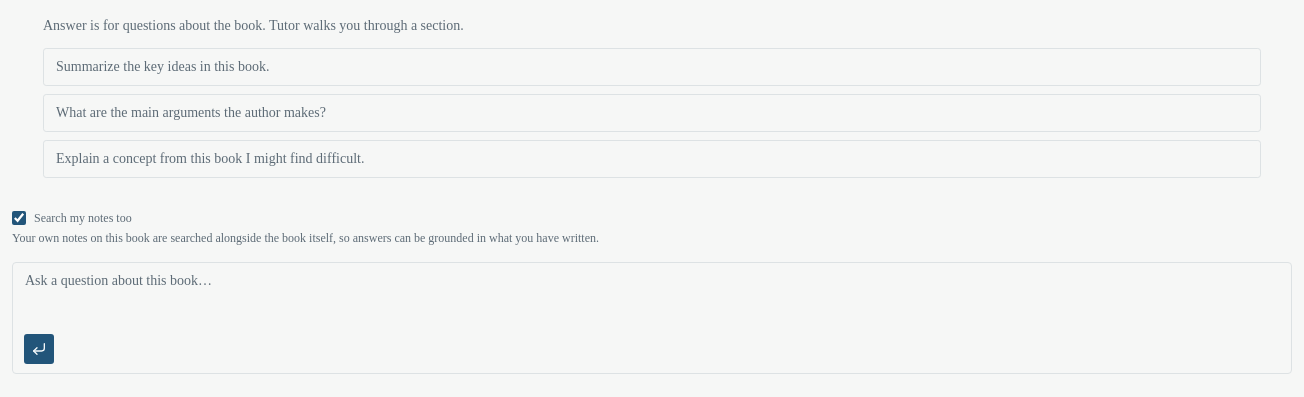
Test: AskPanel on the conversation surface › shows a readable throttle message when the turn stream returns 429
Type "a question" into the text box with placeholder "Ask a question about this book…".
click(652, 295); type("a question")  # box x1=13 y1=263 x2=1291 y2=327
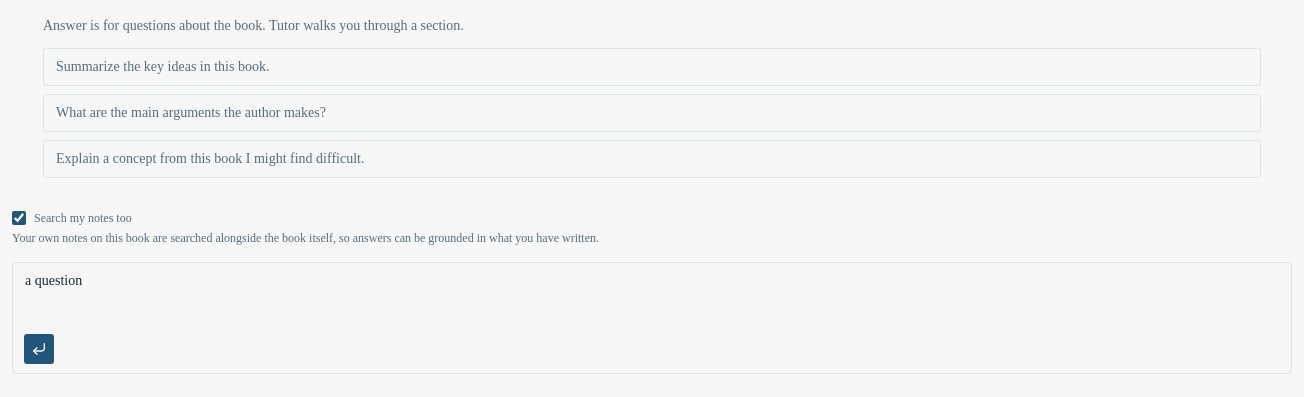
Click the button named "Submit".
click(39, 349)  # box x1=23 y1=333 x2=55 y2=365
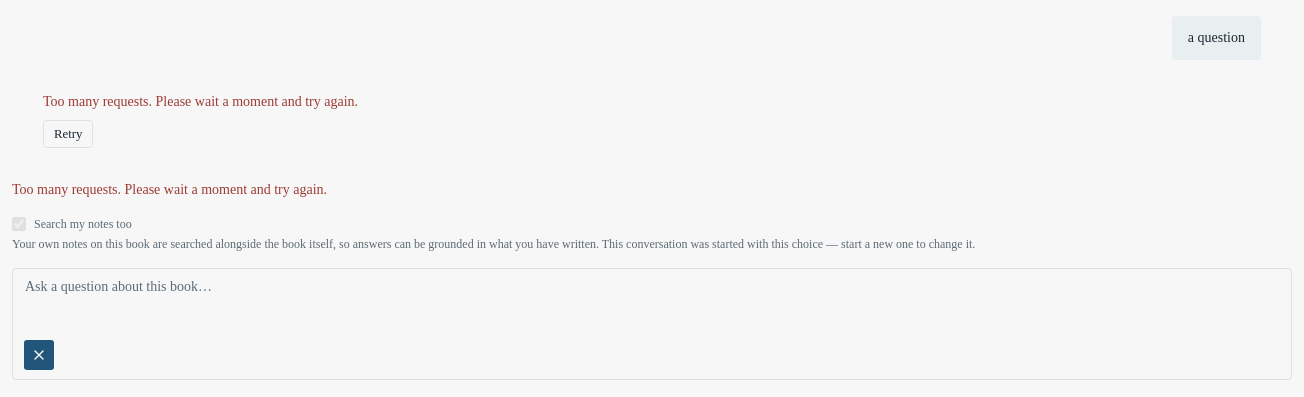
Now the message shows "Too many requests", box x1=12 y1=182 x2=327 y2=197
Now the element with test id "failed-turn" shows "Too many requests", box x1=43 y1=94 x2=358 y2=109
Now the button "Retry" is enabled, box x1=43 y1=120 x2=93 y2=148
